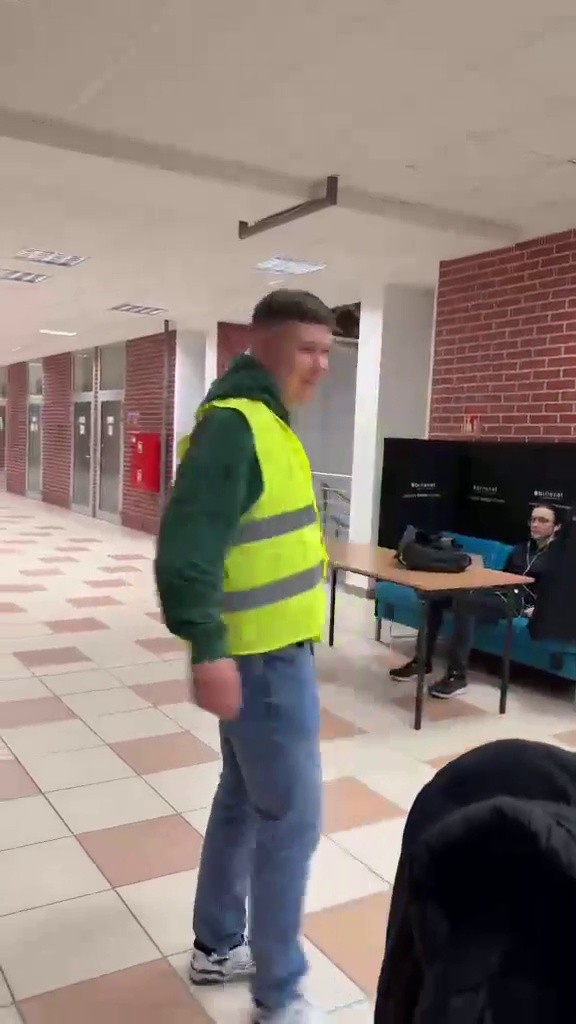no vest: (437, 493, 566, 647)
vest: (151, 267, 365, 1010)
